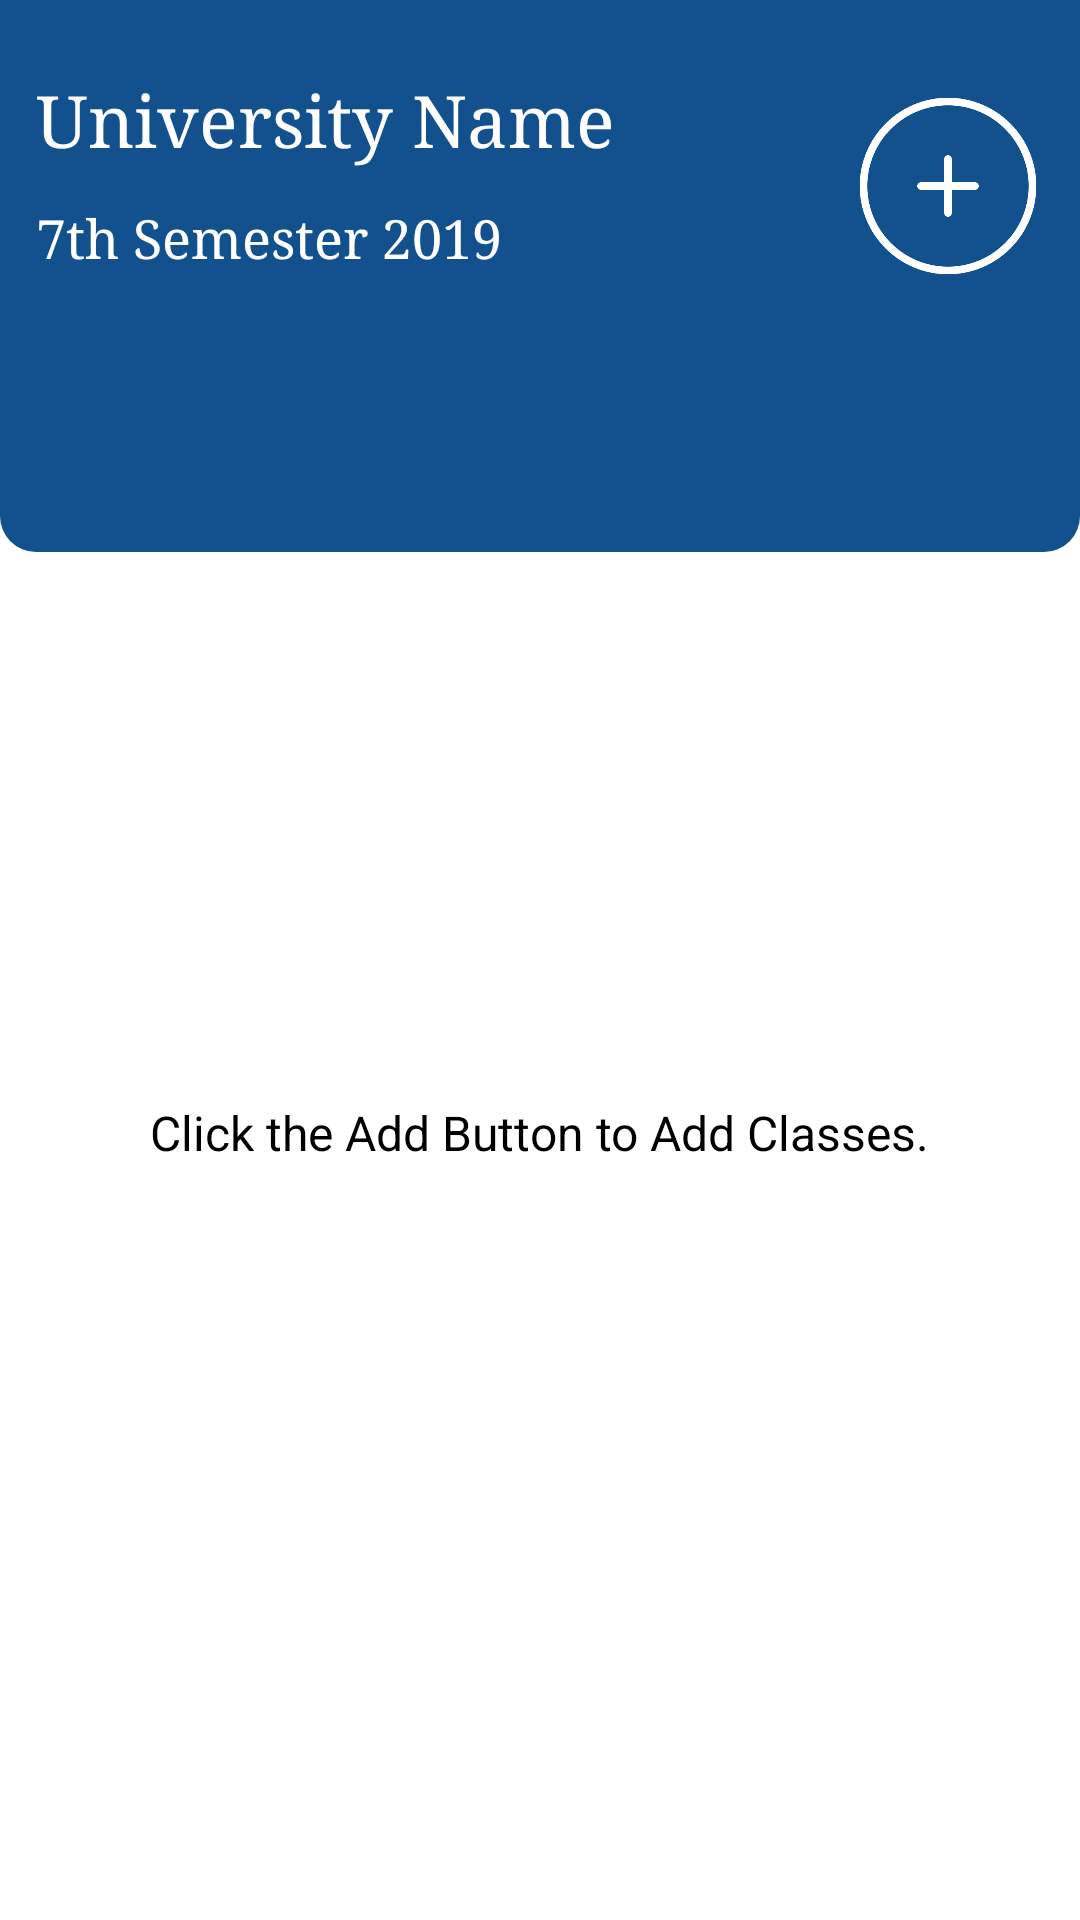

Icons on this 1080 × 1920 Android screen, each with the point to tap as [x,y]:
add: [948,186]
